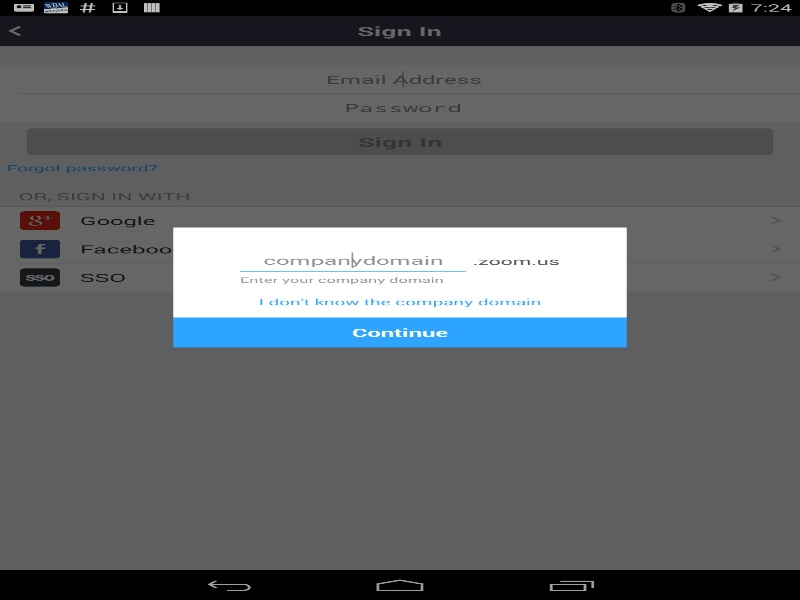Button: (173, 317, 626, 347), (252, 292, 548, 311)
Input: (240, 252, 466, 267)
